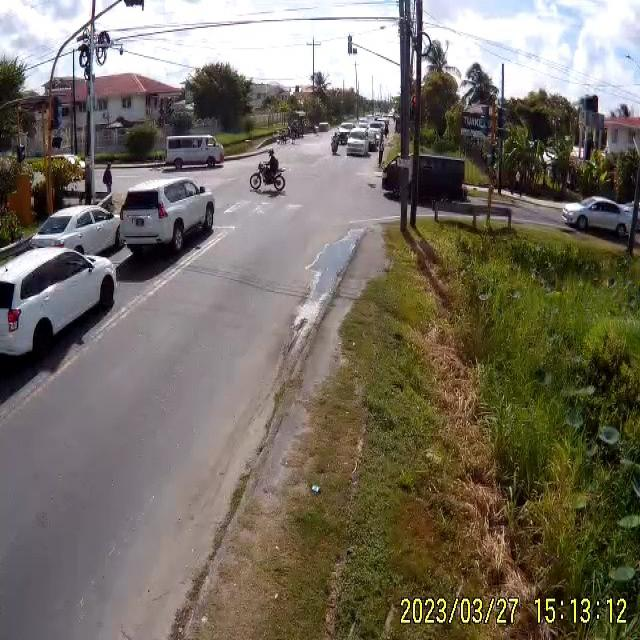car: (0, 242, 119, 371), (118, 174, 216, 255), (32, 205, 122, 255), (383, 155, 466, 204), (564, 198, 636, 238), (166, 134, 225, 172), (344, 134, 368, 155), (315, 123, 328, 133)
motorbike: (250, 166, 286, 193)
person: (102, 164, 112, 191)
